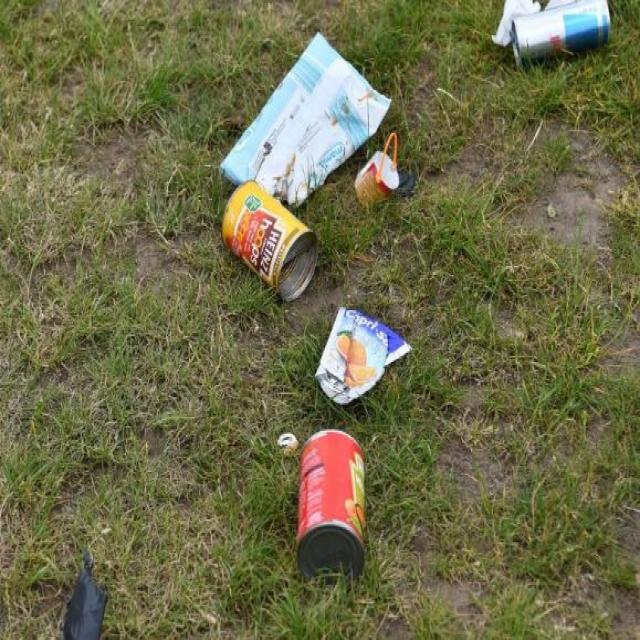dry: (214, 31, 402, 202), (290, 414, 382, 600), (212, 180, 328, 308), (313, 290, 415, 420), (508, 4, 622, 75), (57, 558, 116, 640)
